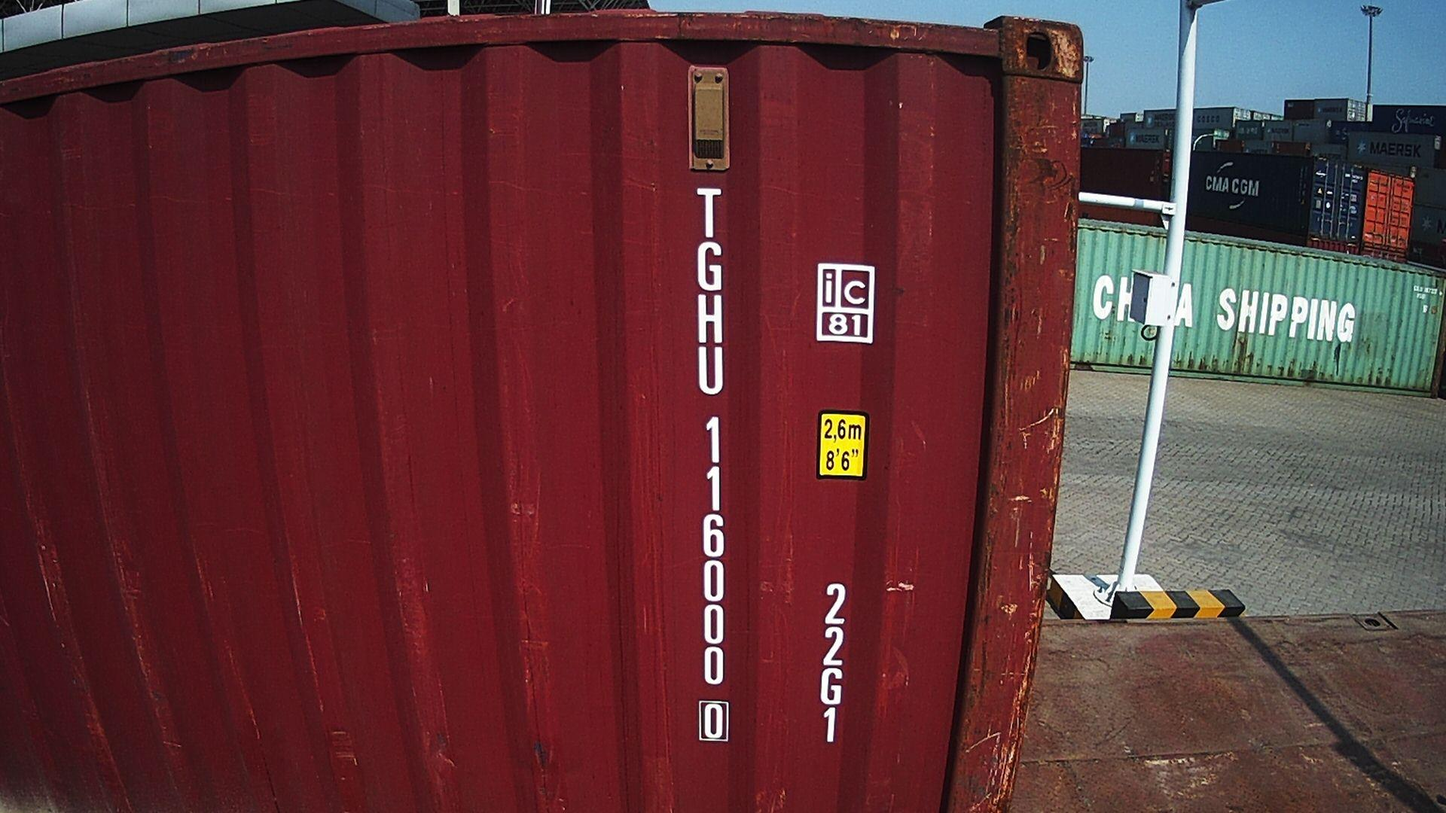container-numbers: (688, 177, 734, 750), (813, 577, 850, 748)
